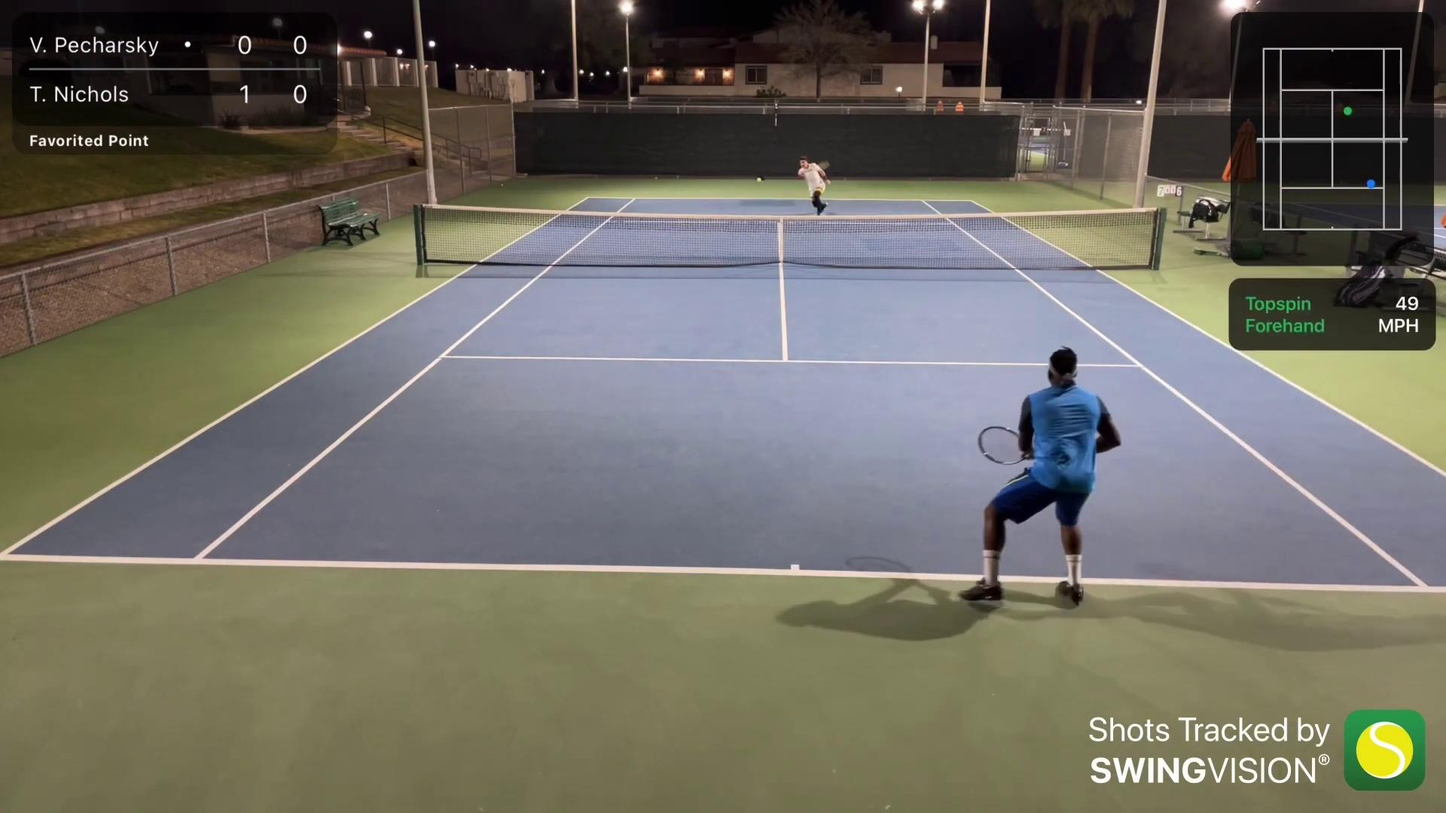ball: (754, 176, 763, 183), (498, 183, 506, 189), (653, 175, 659, 181)
